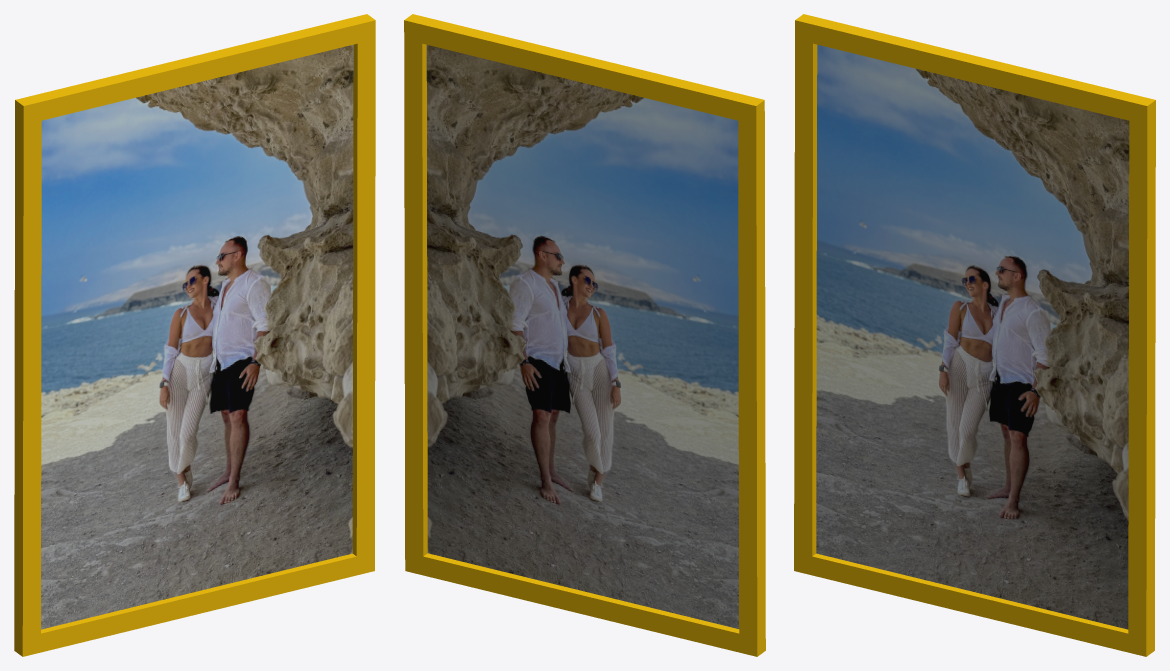
Rendered from myrazem_frame_3d.gltf.
3 renders of one model, left to right at view 1: azimuth 30°, elevation 25°; view 2: azimuth 150°, elevation 25°; view 3: azimuth 330°, elevation 25°, orthographic.
Parts seen in each view (by area): view 1: Plane.001, Plane; view 2: Plane.001, Plane; view 3: Plane.001, Plane.
Boxes of the visible parts, x1,y1,x2,y2 form: Plane.001: (41,44,353,629); Plane: (14,14,375,656); Plane.001: (426,45,739,628); Plane: (404,14,765,656); Plane.001: (816,44,1129,629); Plane: (794,14,1155,656).
Size of what is drawn, in the model's own units: 2.01 by 2.99 by 0.0847.
2 materials, 1 textured.
